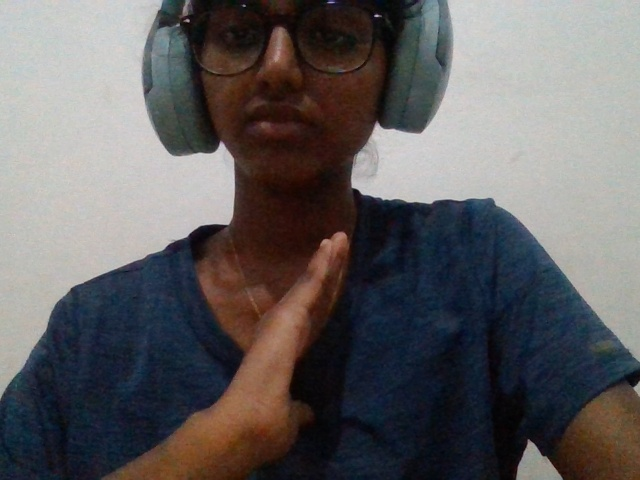Fine: (185, 219, 406, 477)
